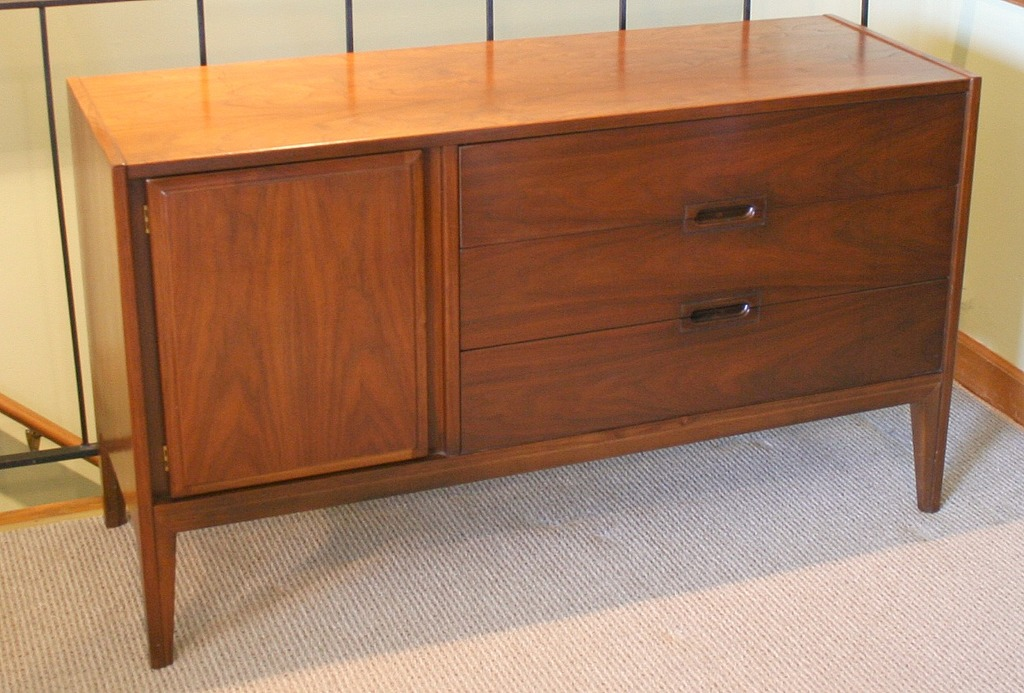cabinet door: (142, 181, 429, 469), (470, 218, 947, 323), (463, 305, 951, 402), (460, 141, 952, 211)
handle: (684, 197, 770, 234), (686, 298, 770, 331)
